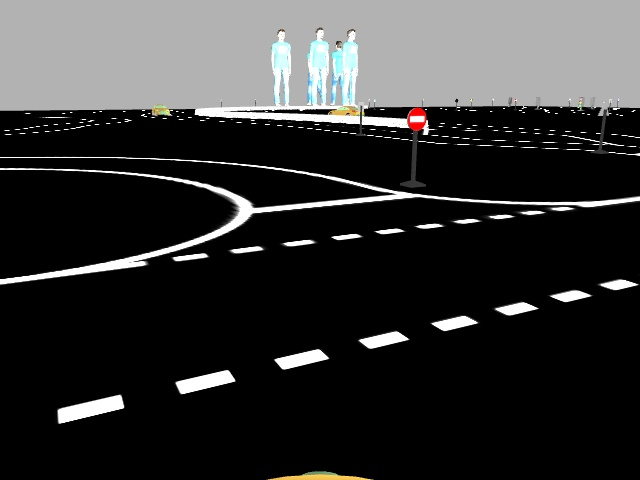NoEntry: (404, 104, 428, 131)
